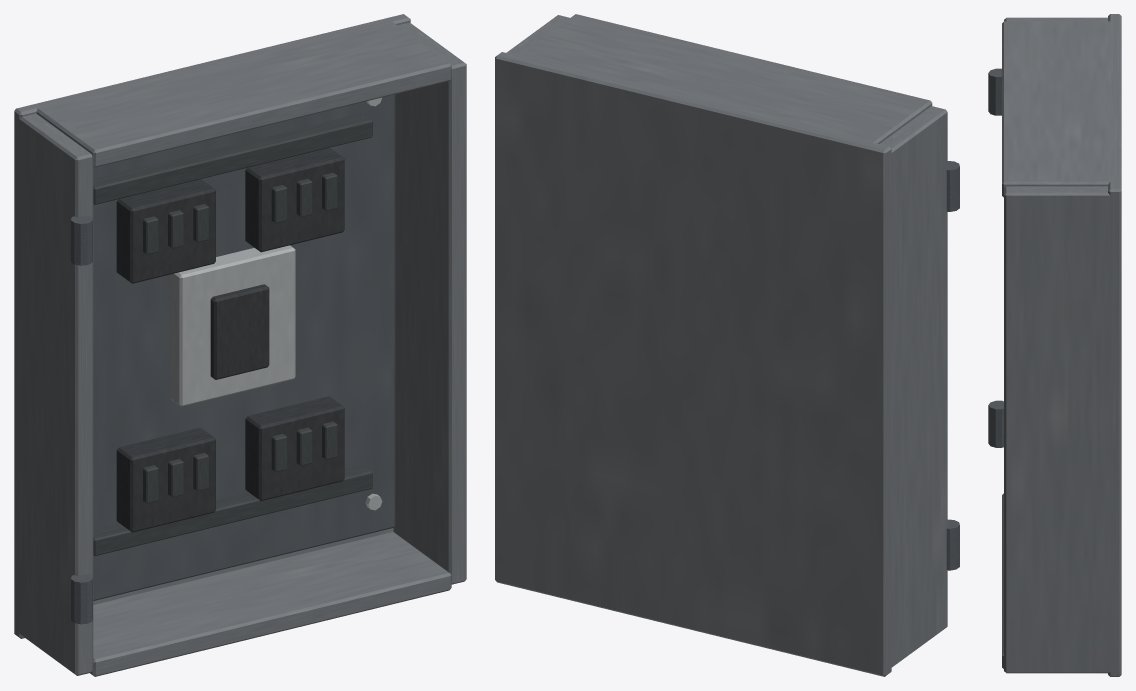
Rendered from electrical_panel_body.glb.
3 renders of one model, left to right at view 1: azimuth 30°, elevation 25°; view 2: azimuth 150°, elevation 25°; view 3: azimuth 270°, elevation 25°, orthographic. The views are drawn at different scales.
Parts seen in each view (by area): view 1: Electrical Panel Body; view 2: Electrical Panel Body; view 3: Electrical Panel Body.
Part boxes in pixels (x1,y1,x2,y2): Electrical Panel Body: [14, 14, 466, 676]; Electrical Panel Body: [495, 14, 959, 676]; Electrical Panel Body: [988, 14, 1121, 676].
Size of the model in its own units: 0.5693 by 0.72 by 0.178.
1 material, 1 textured.
